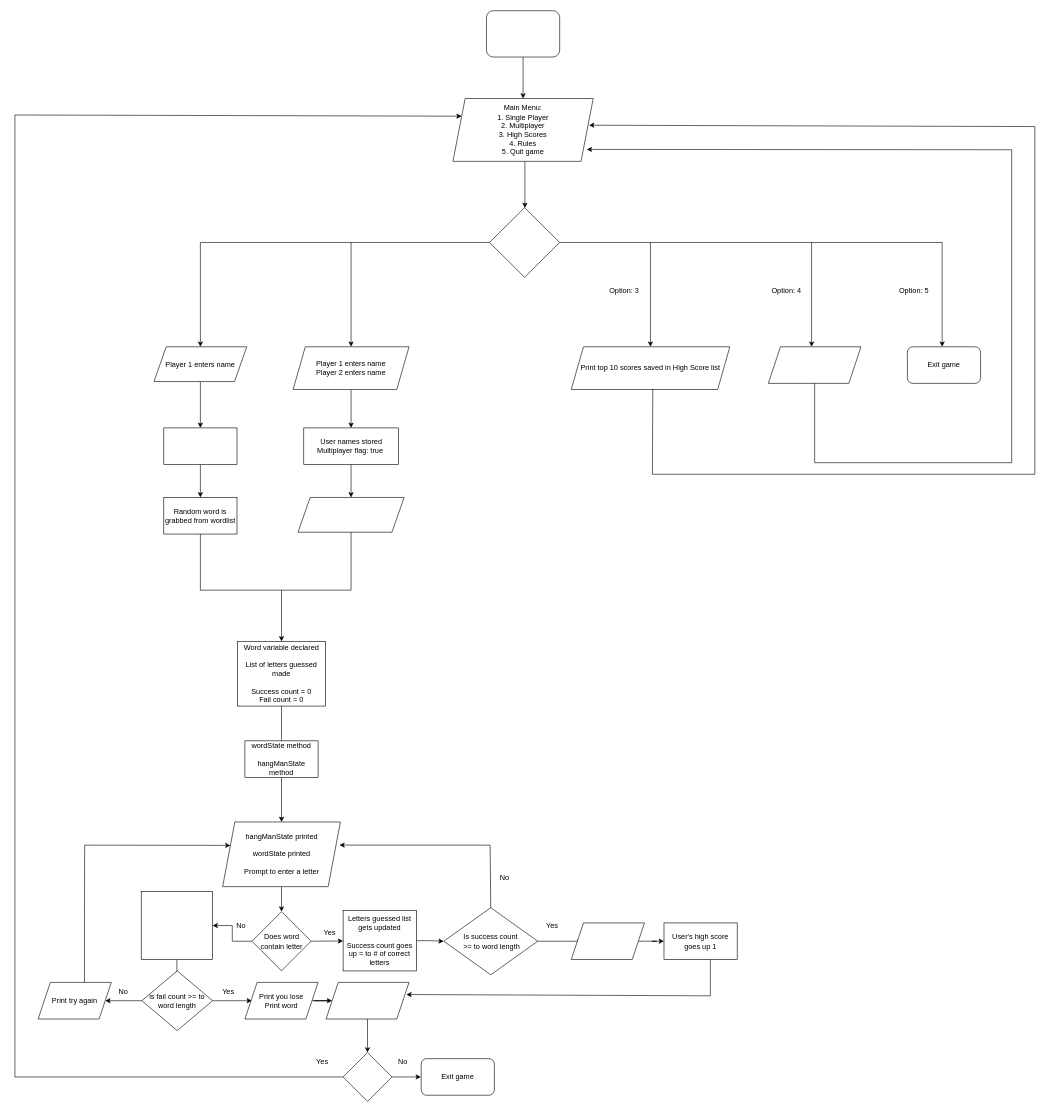
The diagram is 1050 pixels wide and 1112 high, and some of its shapes have lost their labels. Here are the shapes that lost their labels. From the top down, the centre of each, then its label:
(x=523, y=33): Start
(x=524, y=242): Main menu selection
(x=814, y=364): Print rules
(x=200, y=446): User name stored Multiplayer flag: false
(x=350, y=514): User 2 enters word for user 1 to guess
(x=177, y=925): Letters guessed list gets updated hangManState goes up 1 fail count goes up 1
(x=607, y=941): Print you win
(x=367, y=1000): Print do you want to play again
(x=367, y=1076): Yes or No
